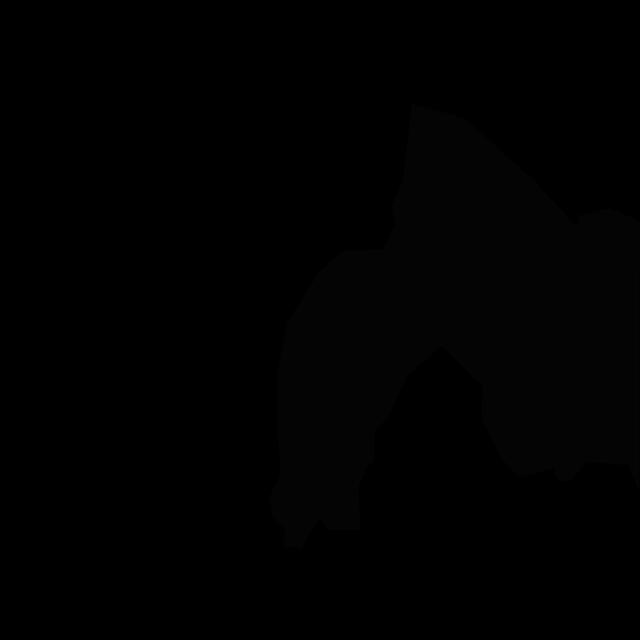soft_plastic: (270, 103, 640, 548)
